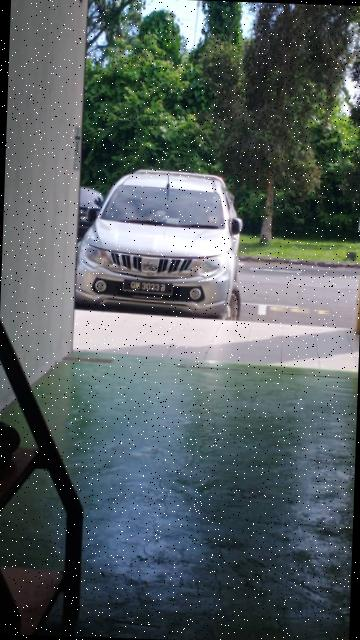License_Plate: (125, 280, 174, 297)
car: (71, 165, 252, 326)
